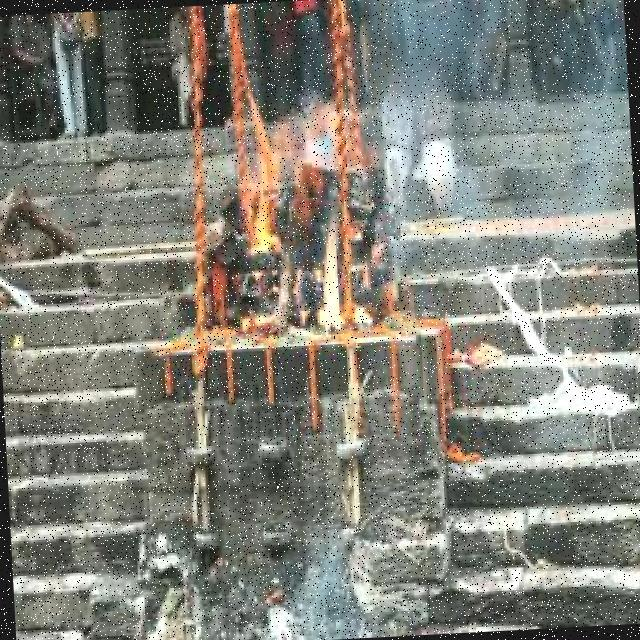Fire: (228, 83, 346, 339)
